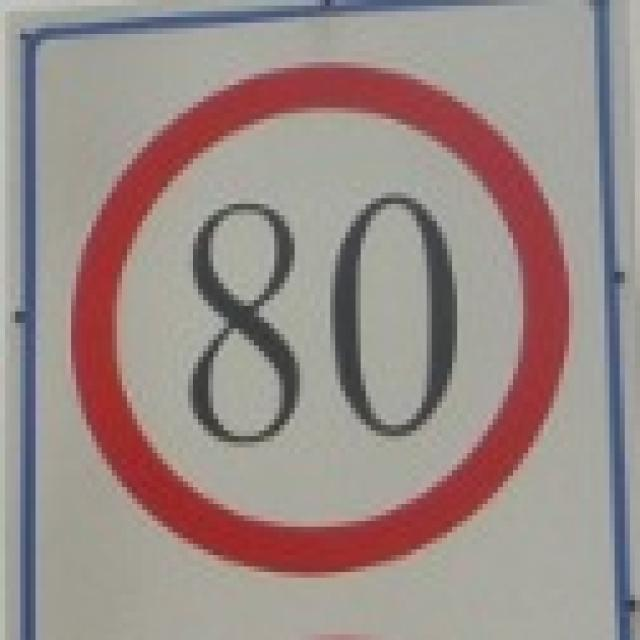Speed Limit -80-: (185, 190, 464, 456)
